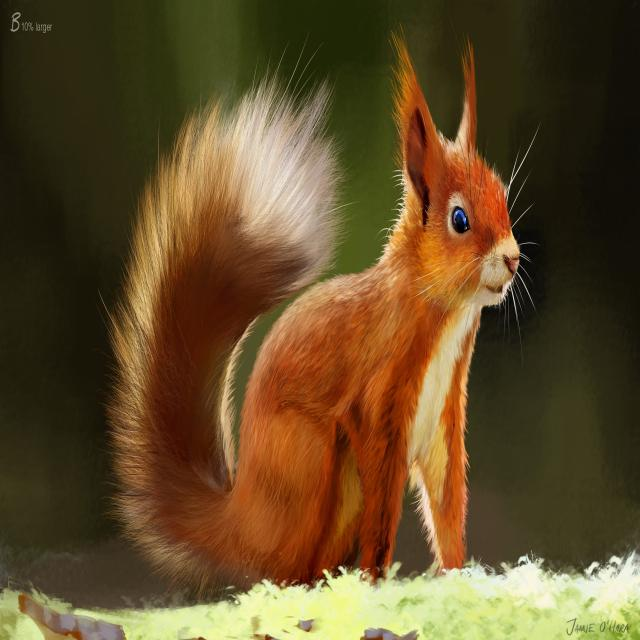Squirrel: (112, 50, 523, 571)
